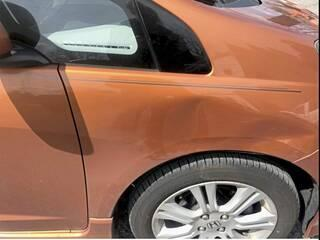dent: (114, 86, 319, 169)
